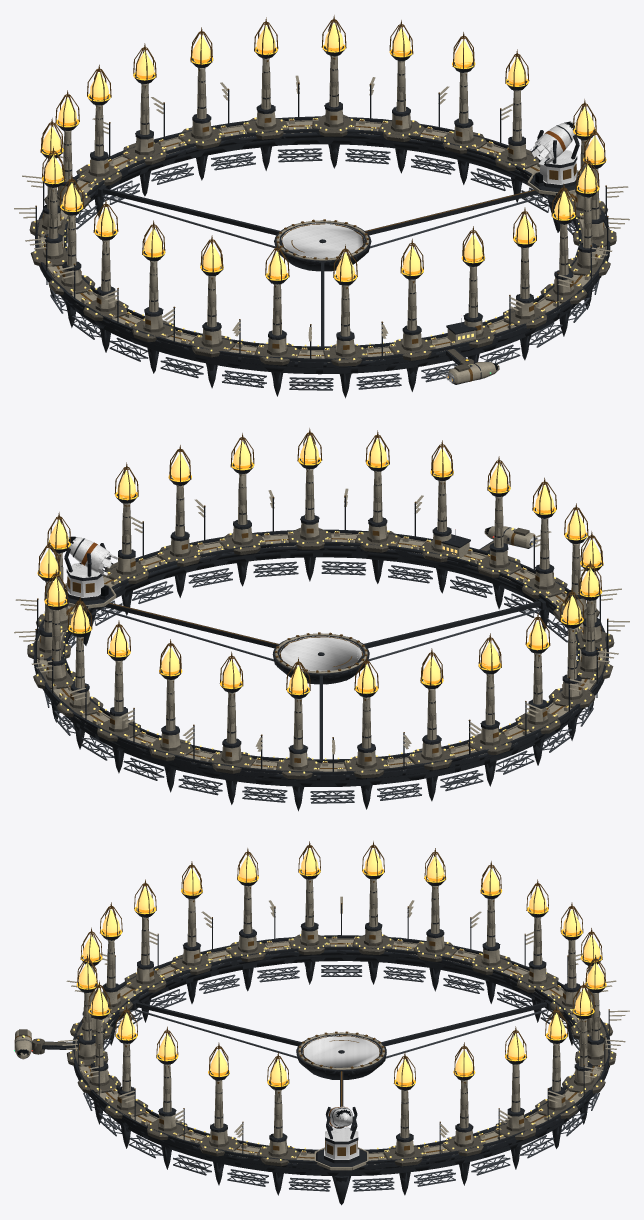
File: place_landmark_candle_fleet.glb
3 renders of one model, top to bottom at view 1: azimuth 30°, elevation 25°; view 2: azimuth 150°, elevation 25°; view 3: azimuth 270°, elevation 25°, orthographic. The views are drawn at different scales.
Parts seen in each view (by area): view 1: LOD0_Hull_graphite, LOD0_Armor, LOD0_Hull, LOD2_Hull, LOD2_Hull_graphite, LOD0_Mechanical, LOD0_Livery, LOD0_Lights_Warm, LOD1_Hull_graphite, LOD1_Hull, LOD1_Lights_Warm, LOD2_Lights_Warm (+9 smaller); view 2: LOD0_Hull_graphite, LOD0_Armor, LOD0_Hull, LOD2_Hull, LOD2_Hull_graphite, LOD0_Mechanical, LOD0_Livery, LOD0_Lights_Warm, LOD1_Hull_graphite, LOD1_Hull, LOD1_Lights_Warm, LOD1_Armor (+9 smaller); view 3: LOD0_Hull_graphite, LOD0_Armor, LOD0_Hull, LOD2_Hull, LOD2_Hull_graphite, LOD0_Mechanical, LOD0_Livery, LOD1_Hull_graphite, LOD0_Lights_Warm, LOD1_Hull, LOD1_Lights_Warm, LOD2_Lights_Warm (+7 smaller).
Part boxes in pixels (box(x1,y1,x2,y2)): LOD0_Hull_graphite: box(35, 46, 610, 396); LOD0_Armor: box(29, 114, 616, 371); LOD0_Hull: box(14, 55, 629, 384); LOD2_Hull: box(35, 56, 603, 383); LOD2_Hull_graphite: box(34, 47, 610, 398); LOD0_Mechanical: box(46, 148, 599, 390); LOD0_Livery: box(35, 15, 608, 381); LOD0_Lights_Warm: box(33, 26, 613, 364); LOD1_Hull_graphite: box(35, 46, 609, 397); LOD1_Hull: box(30, 56, 616, 383); LOD1_Lights_Warm: box(33, 23, 613, 364); LOD2_Lights_Warm: box(42, 23, 604, 280); LOD0_Hull_graphite: box(33, 458, 608, 809); LOD0_Armor: box(27, 527, 614, 779); LOD0_Hull: box(14, 468, 629, 771); LOD2_Hull: box(40, 469, 601, 775); LOD2_Hull_graphite: box(33, 460, 608, 811); LOD0_Mechanical: box(44, 529, 597, 803); LOD0_Livery: box(35, 429, 608, 769); LOD0_Lights_Warm: box(30, 439, 610, 773); LOD1_Hull_graphite: box(34, 460, 608, 810); LOD1_Hull: box(21, 469, 620, 775); LOD1_Lights_Warm: box(31, 439, 609, 772); LOD1_Armor: box(27, 531, 614, 778); LOD0_Hull_graphite: box(15, 869, 610, 1205); LOD0_Armor: box(19, 934, 616, 1166); LOD0_Hull: box(14, 879, 629, 1170); LOD2_Hull: box(14, 879, 603, 1164); LOD2_Hull_graphite: box(27, 871, 610, 1203); LOD0_Mechanical: box(22, 965, 599, 1191); LOD0_Livery: box(14, 841, 609, 1158); LOD1_Hull_graphite: box(20, 870, 610, 1204); LOD0_Lights_Warm: box(22, 850, 612, 1160); LOD1_Hull: box(14, 879, 624, 1169); LOD1_Lights_Warm: box(70, 849, 613, 1157); LOD2_Lights_Warm: box(22, 848, 603, 1082).
Size of what is drawn, in the model's own units: 197 by 57.52 by 213.
Materials: 14 (9 with a texture image).
